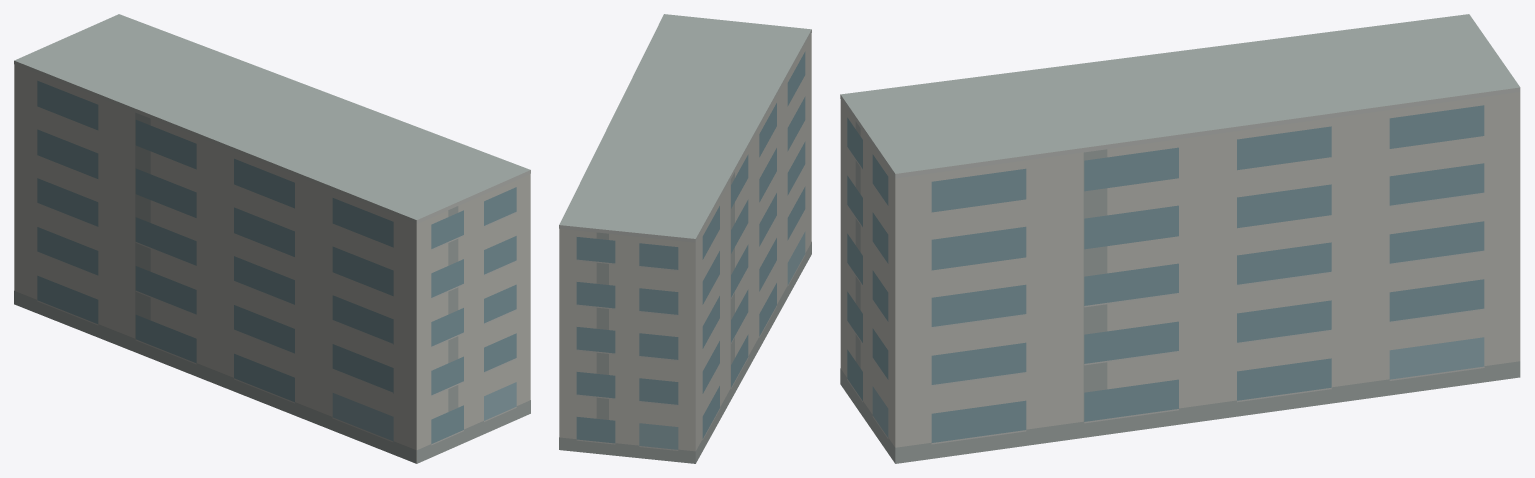
The model's file is residential-d1ae7523-f7d8-4abd-83ac-2b81991c9a2a.glb.
3 renders of one model, left to right at view 1: azimuth 30°, elevation 25°; view 2: azimuth 150°, elevation 25°; view 3: azimuth 270°, elevation 25°, orthographic. The views are drawn at different scales.
Parts seen in each view (by area): view 1: residential-d1ae7523-f7d8-4abd-83ac-2b81991c9a2a.tmp; view 2: residential-d1ae7523-f7d8-4abd-83ac-2b81991c9a2a.tmp; view 3: residential-d1ae7523-f7d8-4abd-83ac-2b81991c9a2a.tmp.
Part boxes in pixels (<box>): residential-d1ae7523-f7d8-4abd-83ac-2b81991c9a2a.tmp: <box>14,14,530,463</box>; residential-d1ae7523-f7d8-4abd-83ac-2b81991c9a2a.tmp: <box>559,14,811,463</box>; residential-d1ae7523-f7d8-4abd-83ac-2b81991c9a2a.tmp: <box>840,14,1520,463</box>.
Bounding box in the file's own units: 18.05 × 15.25 × 32.42.
